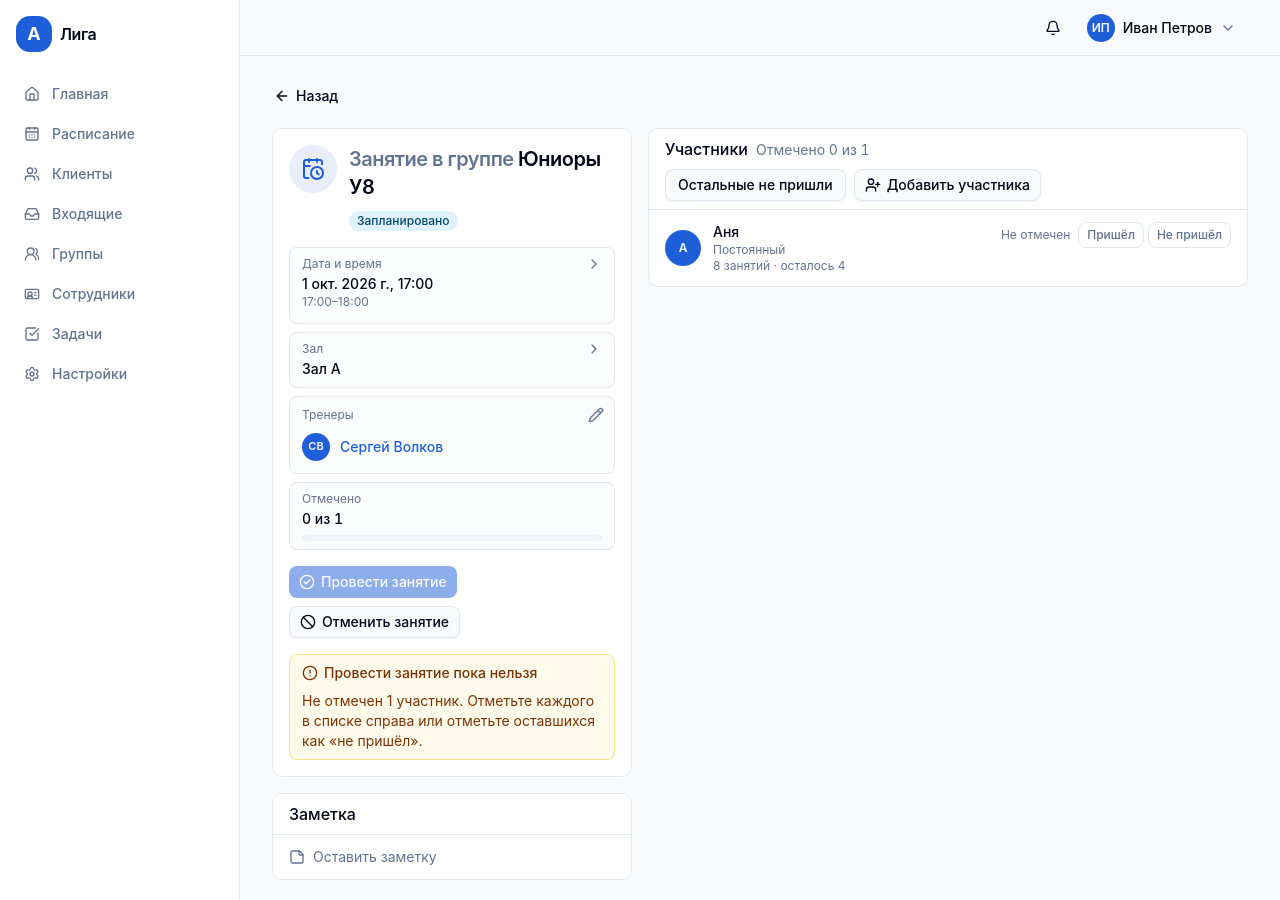
Test: карточка занятия › проведение недоступно при незаполненном журнале и проводит заполненный
expect the button "Провести занятие" is disabled: met, box 289,566 -> 457,598
Click the button "Пришёл": (1111,235) 1078,222 -> 1144,248
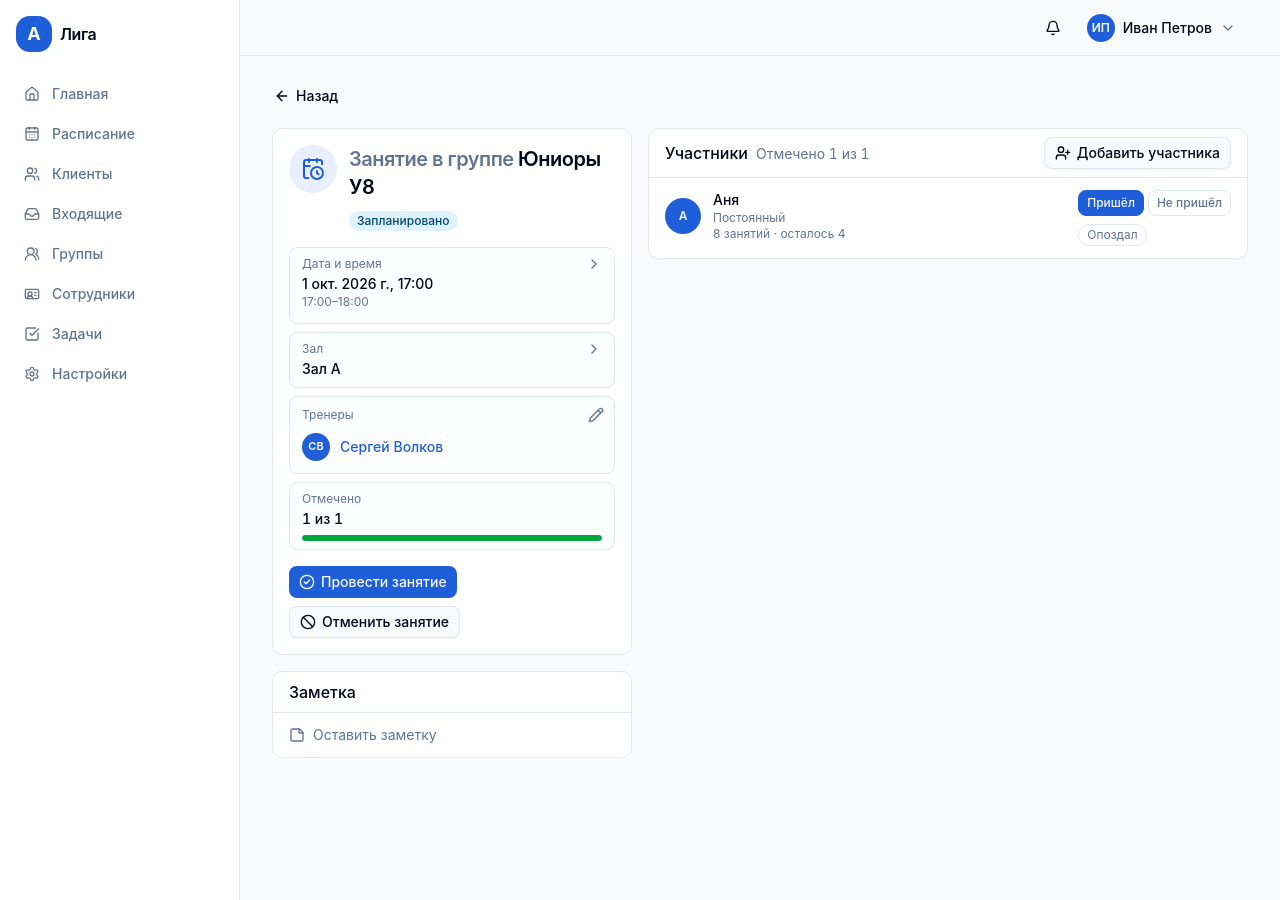
expect the button "Провести занятие" is enabled: met
Click the button "Провести занятие": (373,582) 289,566 -> 457,598
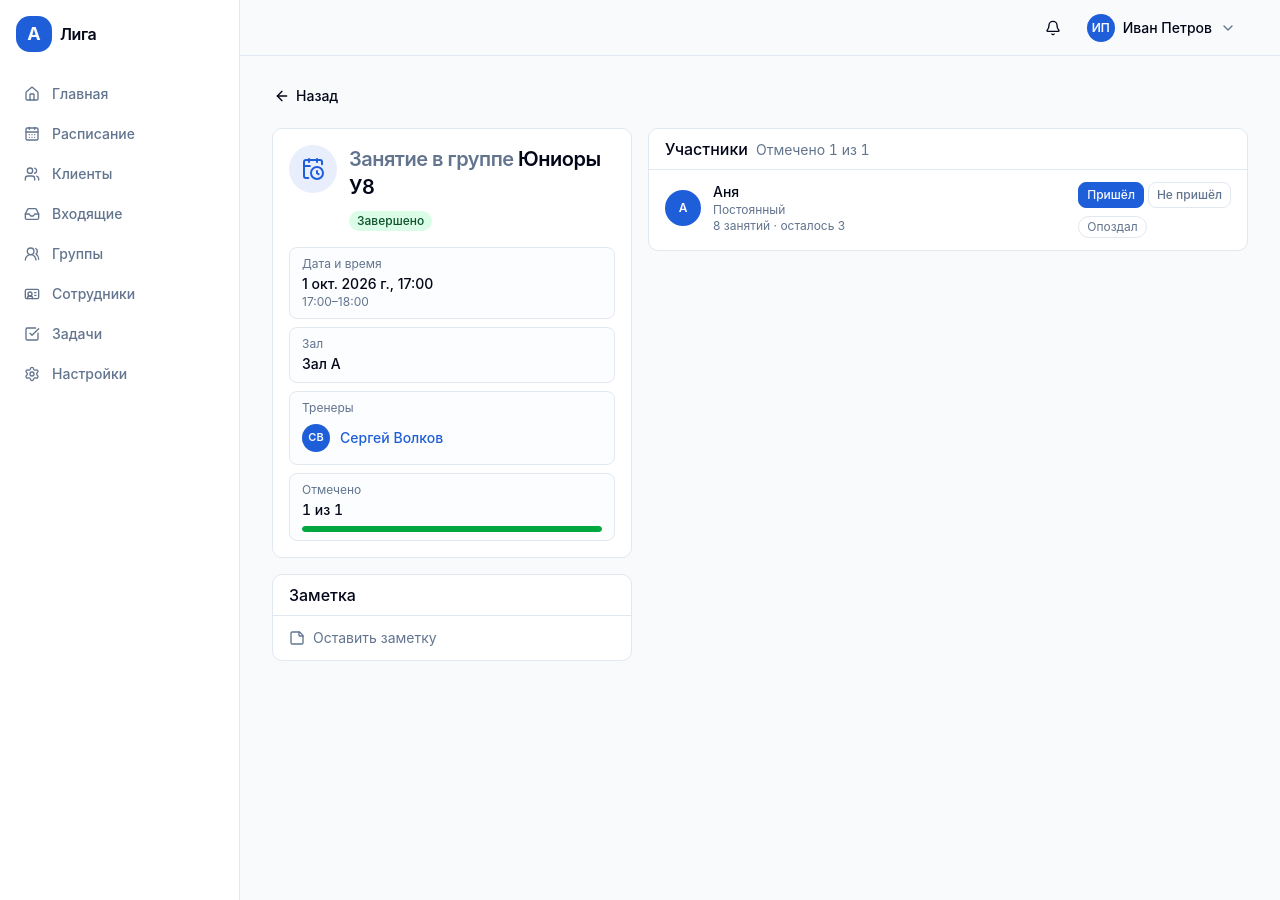
expect the text "Завершено" is shown: met, box 349,211 -> 432,231
expect the button "Провести занятие" is gone: met
